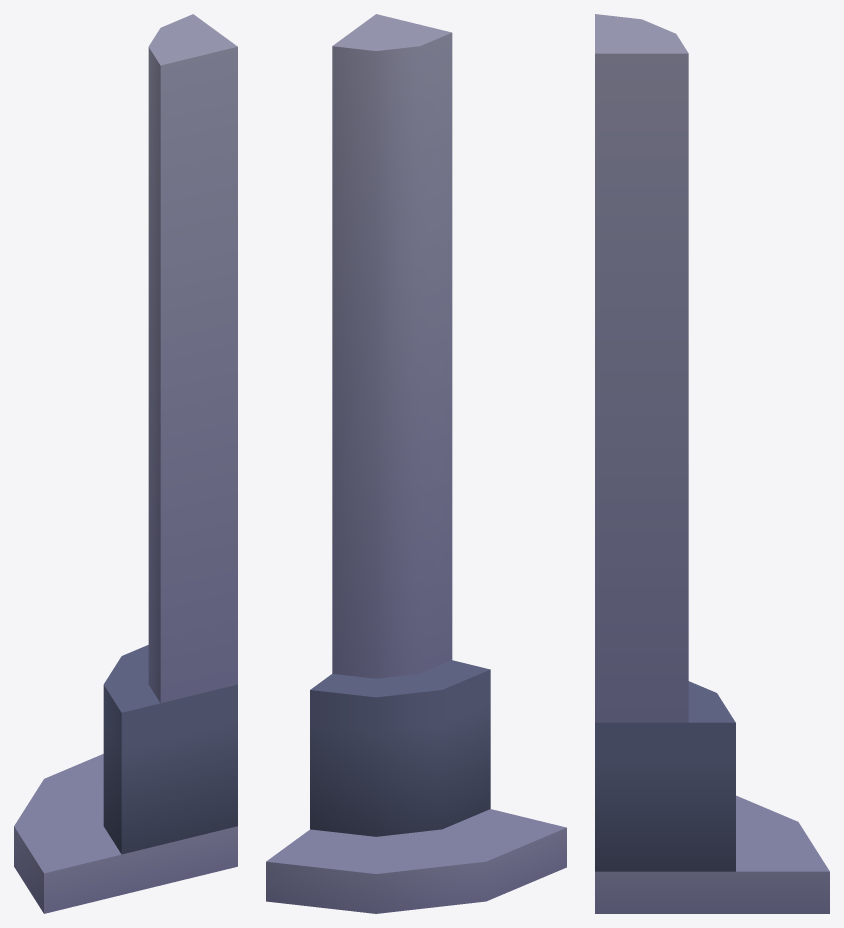
The model's file is template_wall_corner__4_4_lev1.glb.
3 views of the same model, side by side, from view 1: azimuth 30°, elevation 25°; view 2: azimuth 150°, elevation 25°; view 3: azimuth 270°, elevation 25° (orthographic). The views are drawn at different scales.
Visible parts, largest first — view 1: template_wall_corner__4_4_lev1; view 2: template_wall_corner__4_4_lev1; view 3: template_wall_corner__4_4_lev1.
Part boxes in pixels (x1=…): template_wall_corner__4_4_lev1: x1=14, y1=14, x2=237, y2=913; template_wall_corner__4_4_lev1: x1=266, y1=14, x2=566, y2=913; template_wall_corner__4_4_lev1: x1=595, y1=14, x2=829, y2=913.
Size of the model in its own units: 1 by 4.05 by 1.
1 material, 1 textured.
